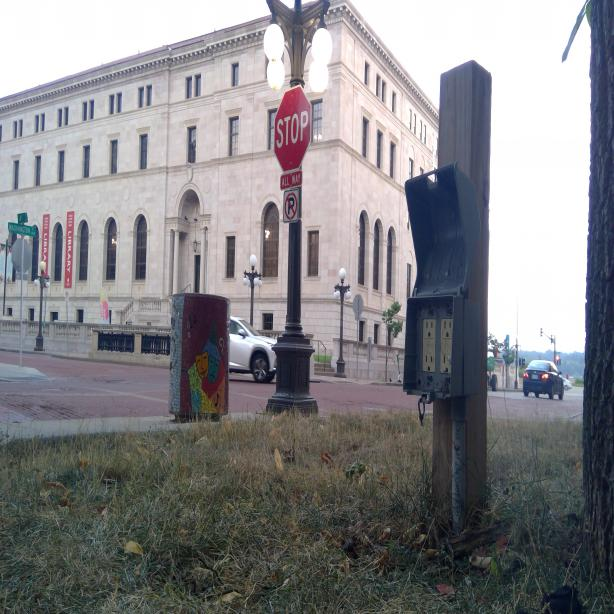typeb: (421, 316, 436, 339), (440, 317, 454, 339), (424, 351, 436, 373), (443, 352, 449, 373)
